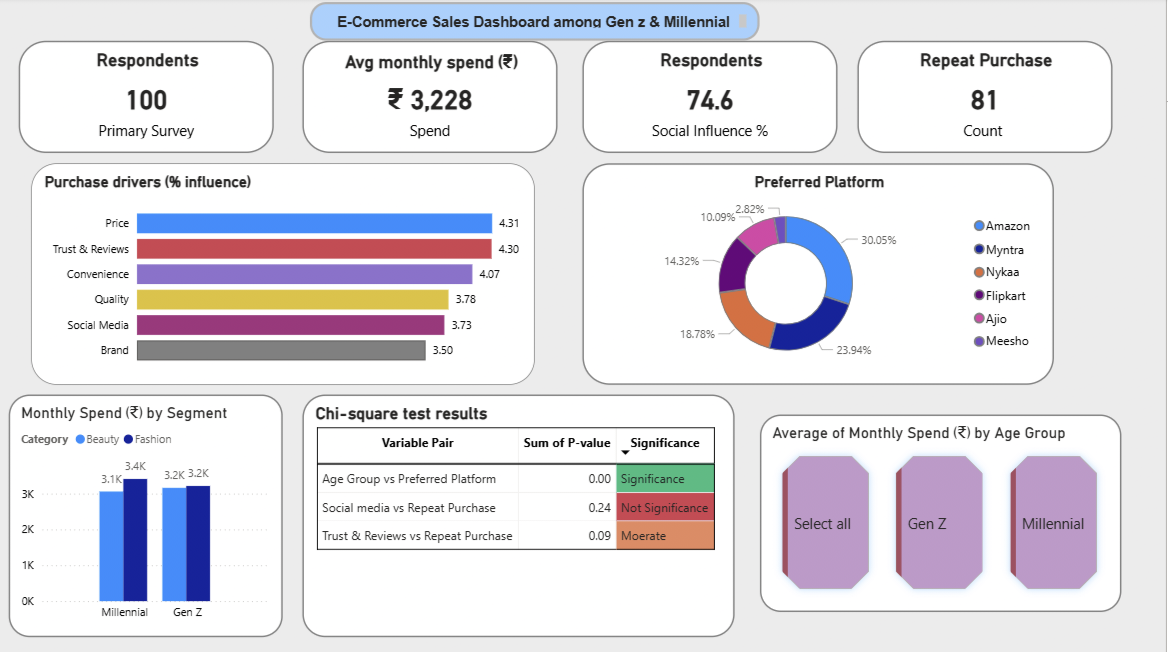

What the dashboard file says about the page in this screenshot:
{"tool":"powerbi","page":{"name":"Page 1","canvas":[1280,720],"ordinal":0},"visuals":[{"type":"card","title":"Respondents","fields":{"Values":["CountNonNull(Sheet1.ID)"]},"box":[20.6,48,279.9,123.5],"z":0},{"type":"card","title":"Avg monthly spend (₹)","fields":{"Values":["Avg(Sheet1.Monthly Spend (₹))"]},"box":[332.1,48,279.9,123.5],"z":1000},{"type":"card","title":"Respondents","fields":{"Values":["Sheet1.Social Influence %"]},"box":[639.5,48,279.9,123.5],"z":2000},{"type":"card","title":"Repeat Purchase","fields":{"Values":["CountNonNull(Sheet1.Repeat purchase)"]},"box":[941.3,48,279.9,123.5],"z":3000},{"type":"donutChart","title":"Preferred Platform","fields":{"Category":["Sheet1.Preferred Platform"],"Y":["Sum(Sheet1.Trust & Reviews)"]},"box":[639.5,182.5,517.3,242.9],"z":4000},{"type":"clusteredColumnChart","title":"Monthly Spend (₹) by Segment","fields":{"Category":["Sheet1.Age Group"],"Series":["Sheet1.Category"],"Y":["Avg(Sheet1.Monthly Spend (₹))"]},"box":[9.6,436.4,300.5,266.2],"z":5000},{"type":"barChart","title":"Purchase drivers (% influence)","fields":{"Category":["Purchase Driver.Attribute"],"Y":["Avg(Purchase Driver.Value)"]},"box":[34.3,182.5,553,242.9],"z":6000},{"type":"tableEx","title":"Chi-square test results","fields":{"Values":["Chi Square Test.Variable Pair","Sum(Chi Square Test.P-value)","Chi Square Test.Significance "]},"box":[332.1,436.4,474.8,266.2],"z":7000},{"type":"advancedSlicerVisual","fields":{"Values":["Sheet1.Age Group"],"Label":["Avg(Sheet1.Monthly Spend (₹))"]},"box":[834.3,458.3,396.6,216.8],"z":8000},{"type":"textbox","box":[340.3,5.5,494,42.5],"z":9000}]}

Visuals, with their boxes in screenshot pixels (x1, y1, x2, y2), scaled from the page's 1280x720 canvas onto the 1168x652 screenshot:
"Respondents" card: 19, 43, 274, 155
"Avg monthly spend (₹)" card: 303, 43, 558, 155
"Respondents" card: 584, 43, 839, 155
"Repeat Purchase" card: 859, 43, 1114, 155
"Preferred Platform" donutChart: 584, 165, 1056, 385
"Monthly Spend (₹) by Segment" clusteredColumnChart: 9, 395, 283, 636
"Purchase drivers (% influence)" barChart: 31, 165, 536, 385
"Chi-square test results" tableEx: 303, 395, 736, 636
advancedSlicerVisual - Sheet1.Age Group x Avg(Sheet1.Monthly Spend (₹)): 761, 415, 1123, 611
textbox: 311, 5, 761, 43
